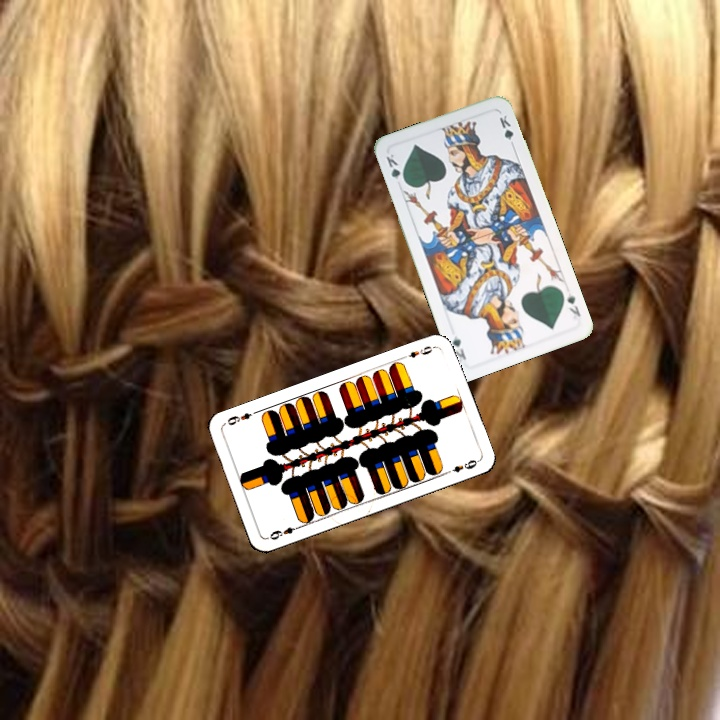E9: (264, 522, 303, 543), (399, 342, 438, 361)
GK: (382, 150, 408, 186), (563, 289, 583, 319)
